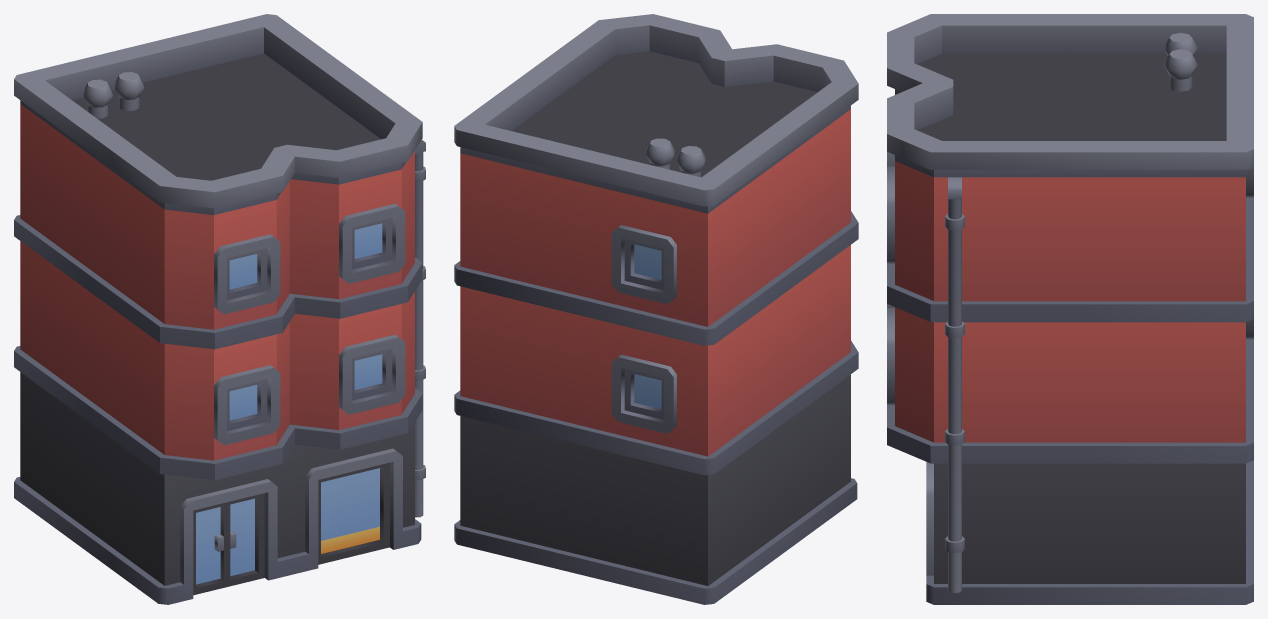
The model's file is building-a.glb.
3 renders of one model, left to right at view 1: azimuth 30°, elevation 25°; view 2: azimuth 150°, elevation 25°; view 3: azimuth 270°, elevation 25°, orthographic. The views are drawn at different scales.
Visible parts, largest first — view 1: building-a; view 2: building-a; view 3: building-a.
Boxes of the visible parts, x1=… form: building-a: x1=14, y1=14, x2=425, y2=604; building-a: x1=454, y1=14, x2=858, y2=604; building-a: x1=887, y1=14, x2=1253, y2=604.
Bounding box in the file's own units: 0.8836 × 1.29 × 0.94.
1 material, 1 textured.
